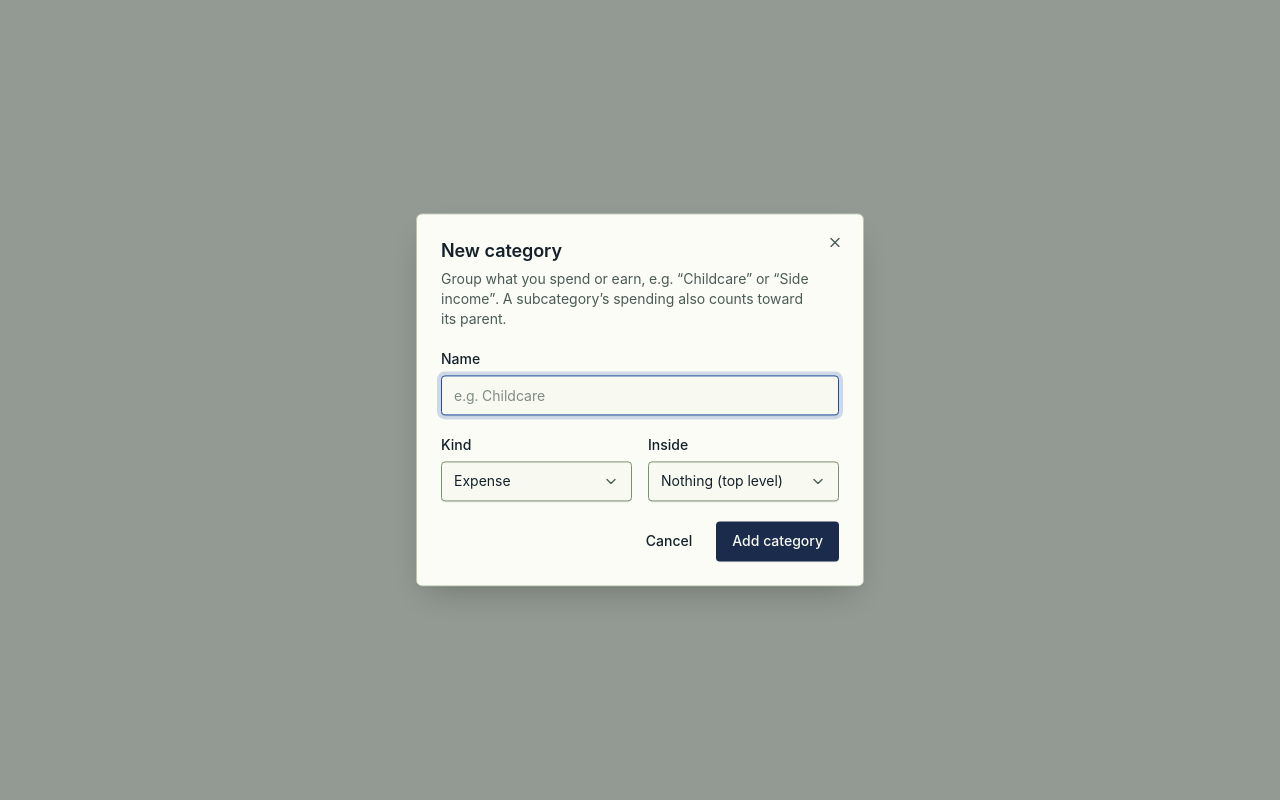
CategoryDialog › puts a duplicate name error on the name field
Type "Food" into the field labelled "Name" at {"x": 640, "y": 396}, box [441,376,839,416]
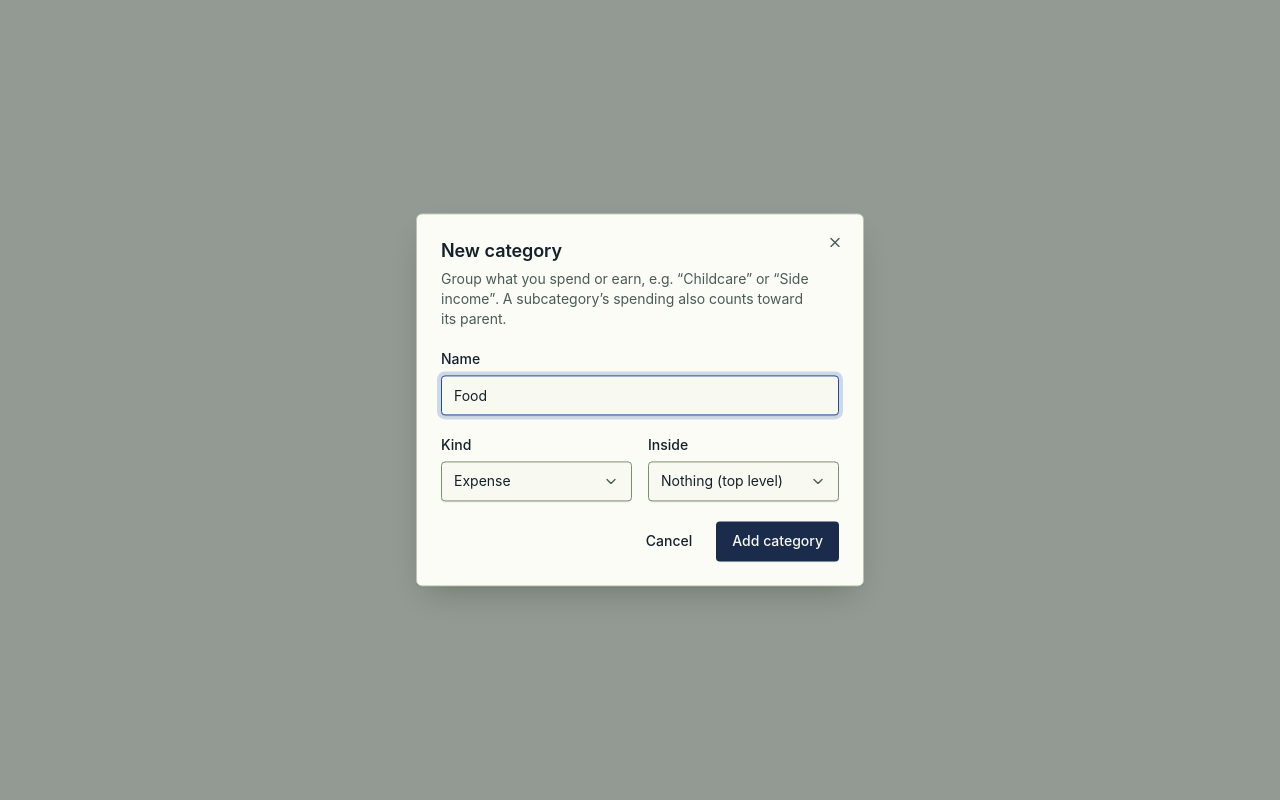
Click the button "Add category" at {"x": 778, "y": 542}, box [716,522,839,562]
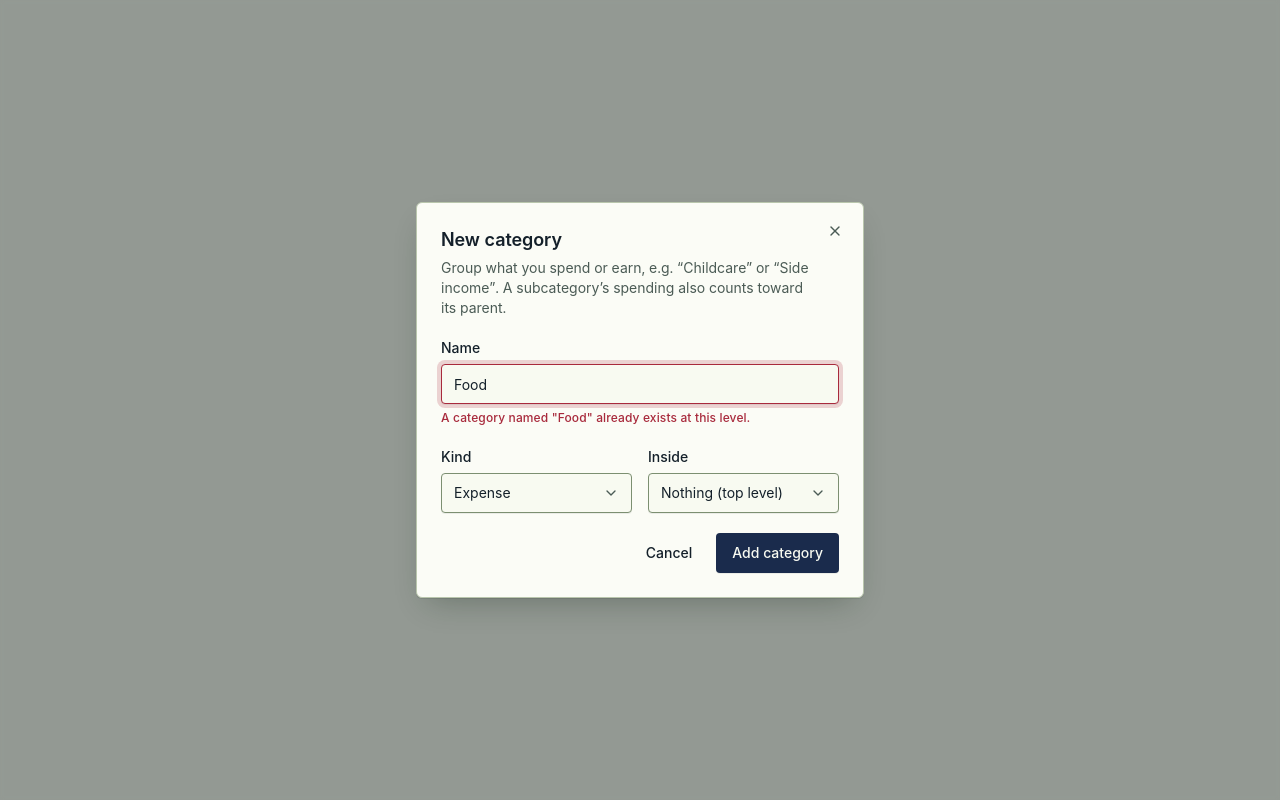
Expected: the text "A category named \"Food\" already exists at this level." is shown, [441,410,750,425]
